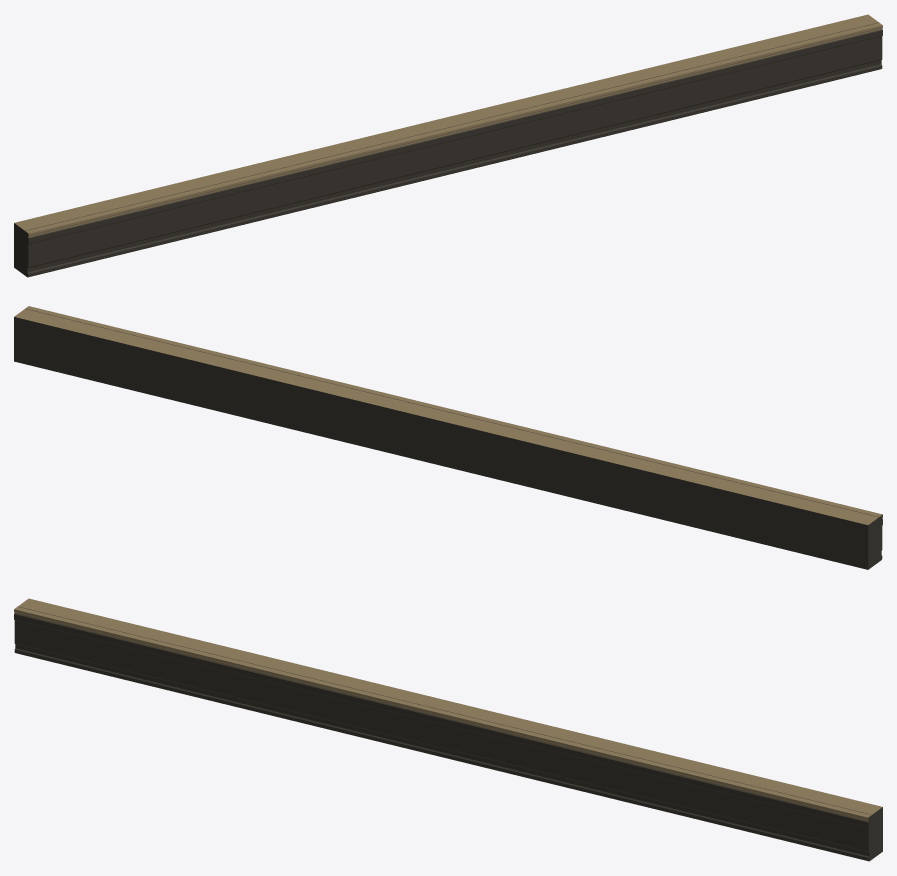
File: mall-floor-edge-2m-lod2.glb
3 views of the same model, one above another, from view 1: azimuth 30°, elevation 25°; view 2: azimuth 150°, elevation 25°; view 3: azimuth 330°, elevation 25° (orthographic).
Visible parts, largest first — view 1: Straight full-depth section LOD2; view 2: Straight full-depth section LOD2; view 3: Straight full-depth section LOD2.
Part boxes in pixels (left/top/right/bottom): Straight full-depth section LOD2: left=14, top=14, right=882, bottom=277; Straight full-depth section LOD2: left=14, top=306, right=882, bottom=569; Straight full-depth section LOD2: left=14, top=598, right=882, bottom=861.
Size of the model in its own units: 2 by 0.1 by 0.06.
